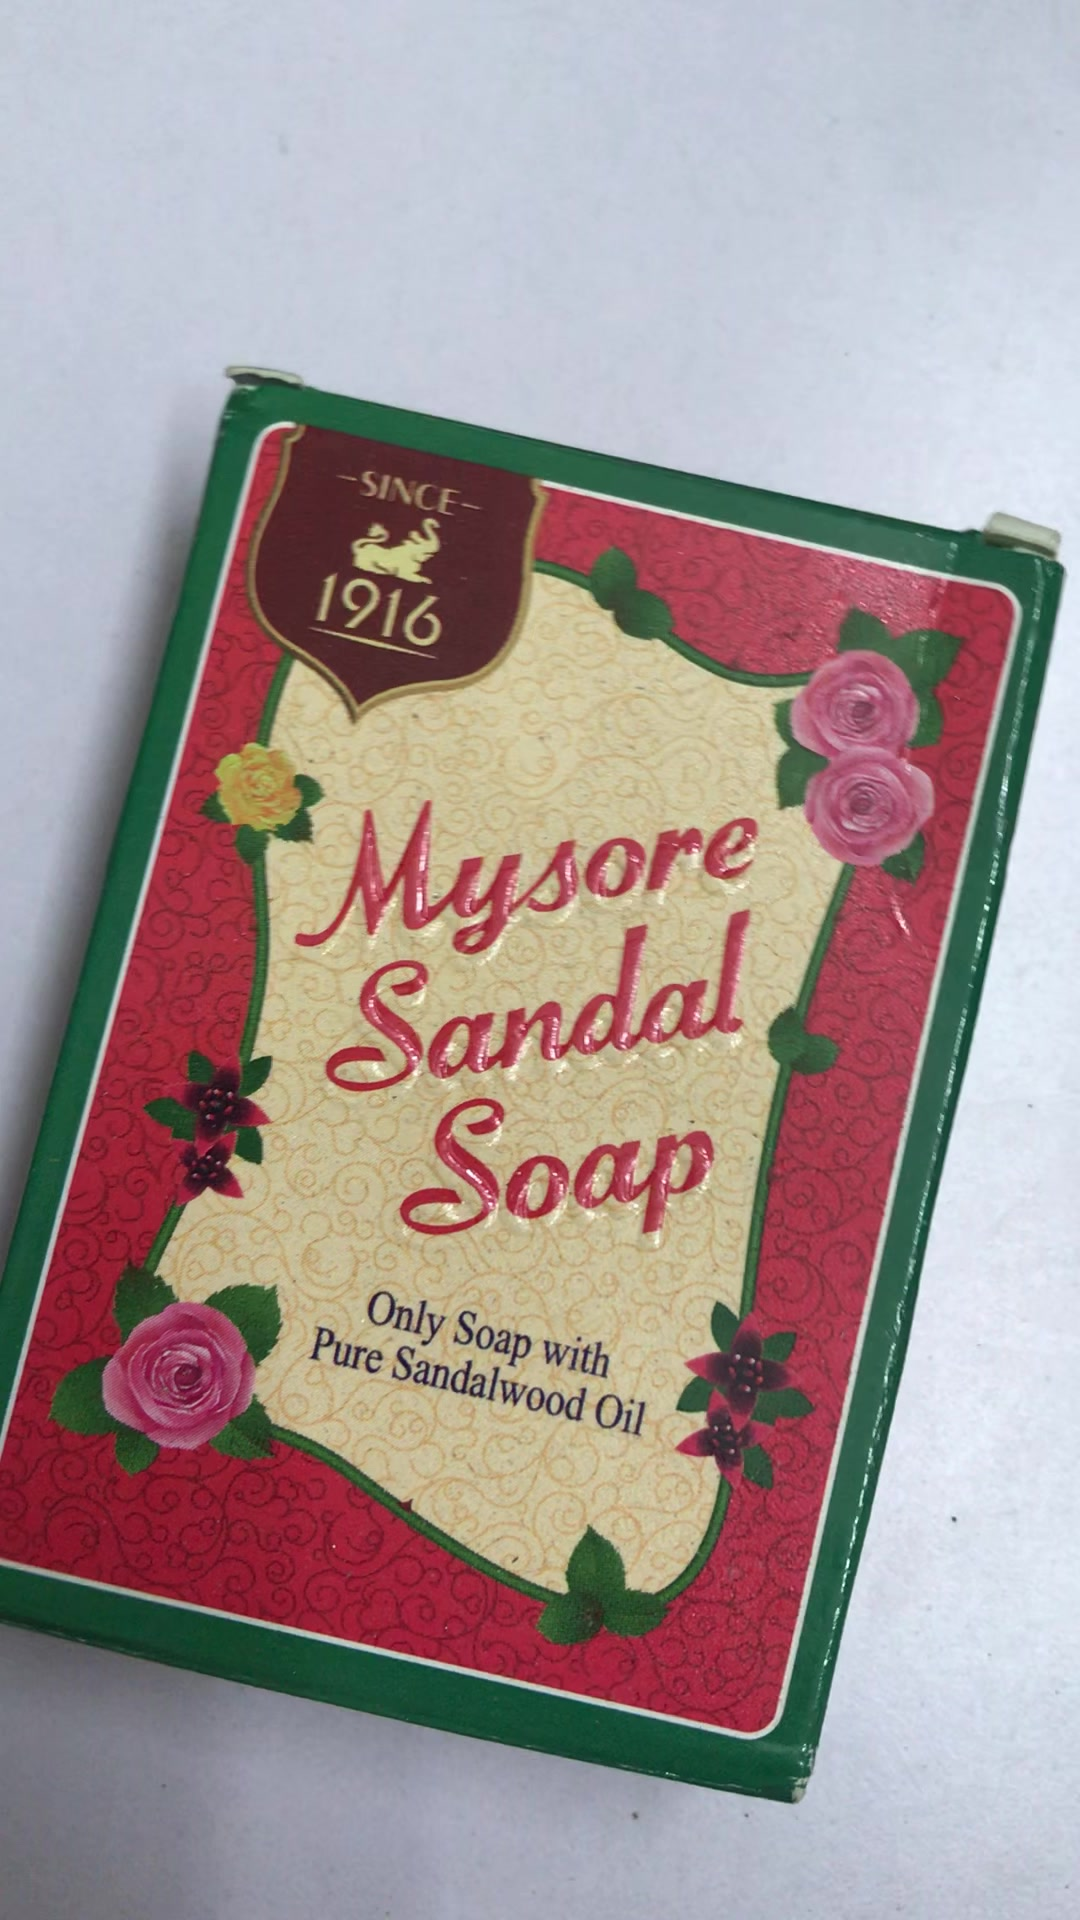mysore sandal soap: (7, 367, 1062, 1808)
